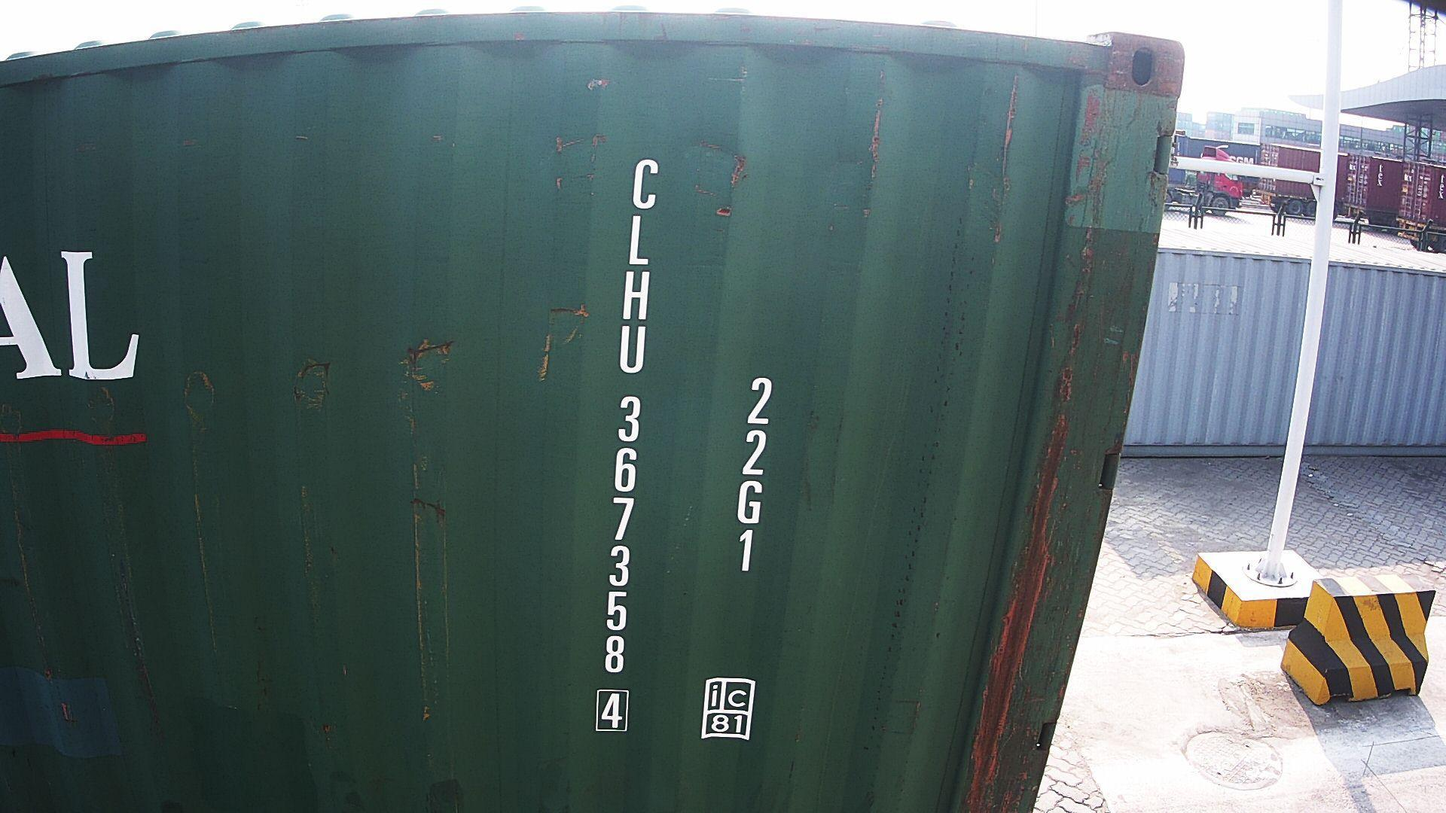container-numbers: (590, 156, 665, 745), (723, 373, 779, 584)
